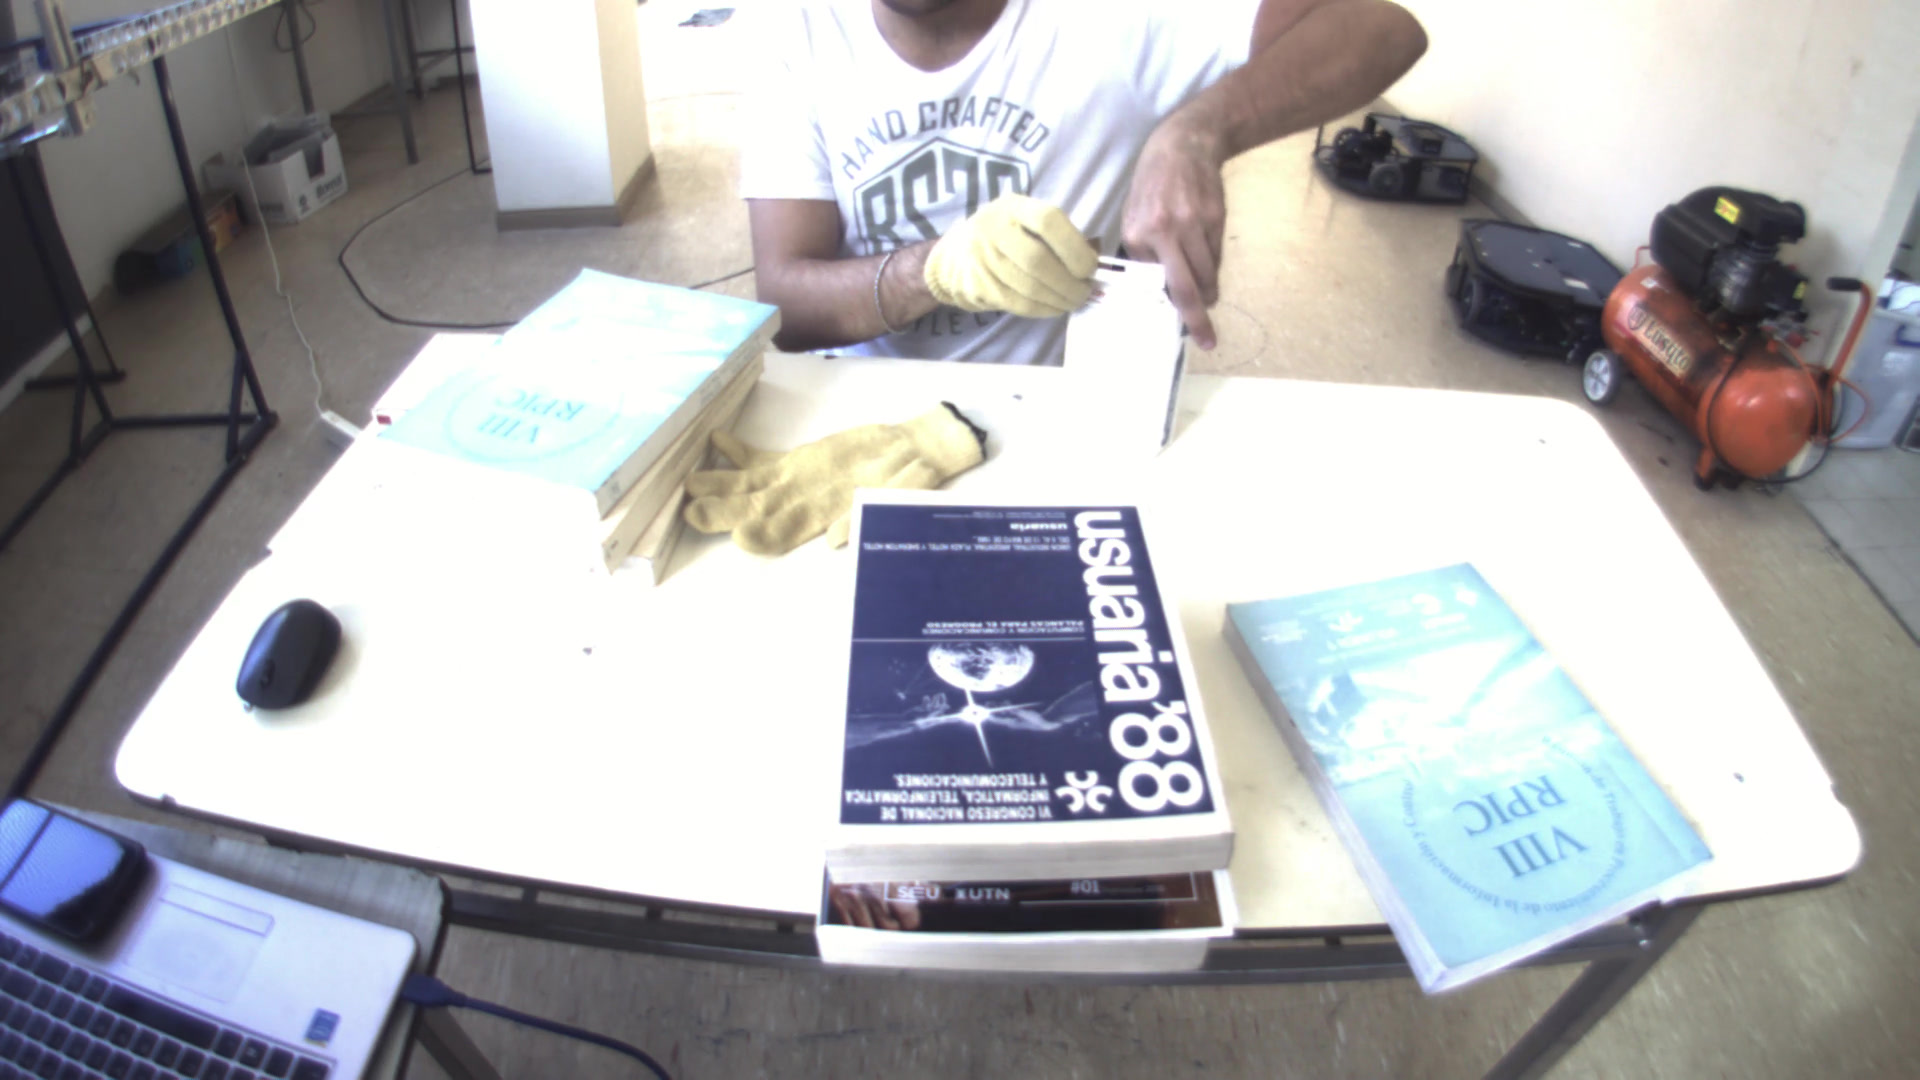hand: (1118, 102, 1229, 357), (918, 185, 1112, 320)
